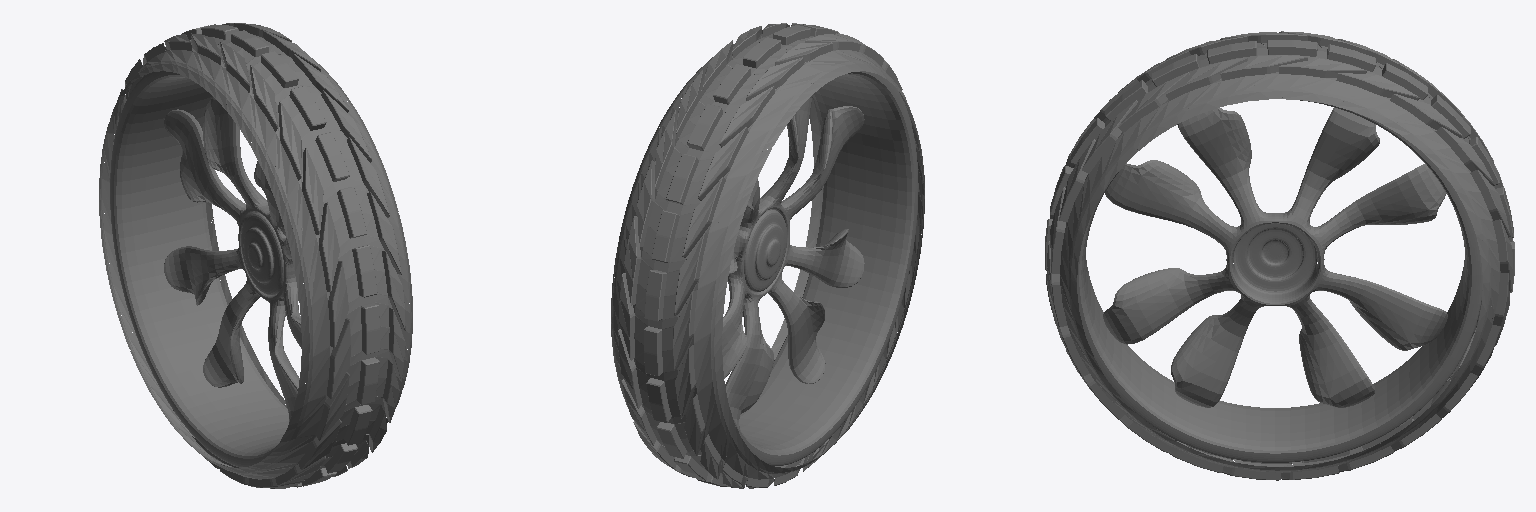
Rendered from Rims&Tires.obj.
3 views of the same model, side by side, from view 1: azimuth 30°, elevation 25°; view 2: azimuth 150°, elevation 25°; view 3: azimuth 270°, elevation 25° (orthographic).
Parts seen in each view (by area): view 1: pPlane25, Rims:pPipe4; view 2: pPlane25, Rims:pPipe4; view 3: Rims:pPipe4, pPlane25.
Part boxes in pixels (x1,y1,x2,y2): pPlane25: (99,23,412,488); Rims:pPipe4: (110,54,401,467); pPlane25: (611,23,924,488); Rims:pPipe4: (635,41,918,465); Rims:pPipe4: (1077,45,1482,462); pPlane25: (1045,31,1514,480).
Bounding box in the file's own units: 10.46 × 38.27 × 38.27.